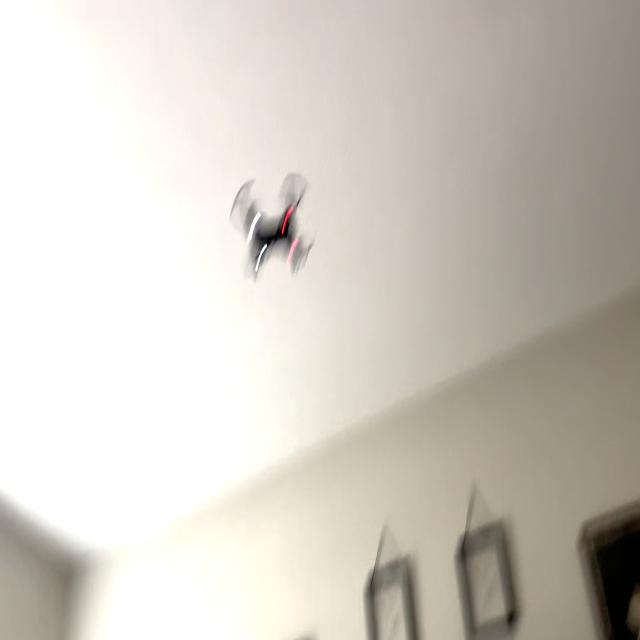drone: (221, 156, 332, 301)
